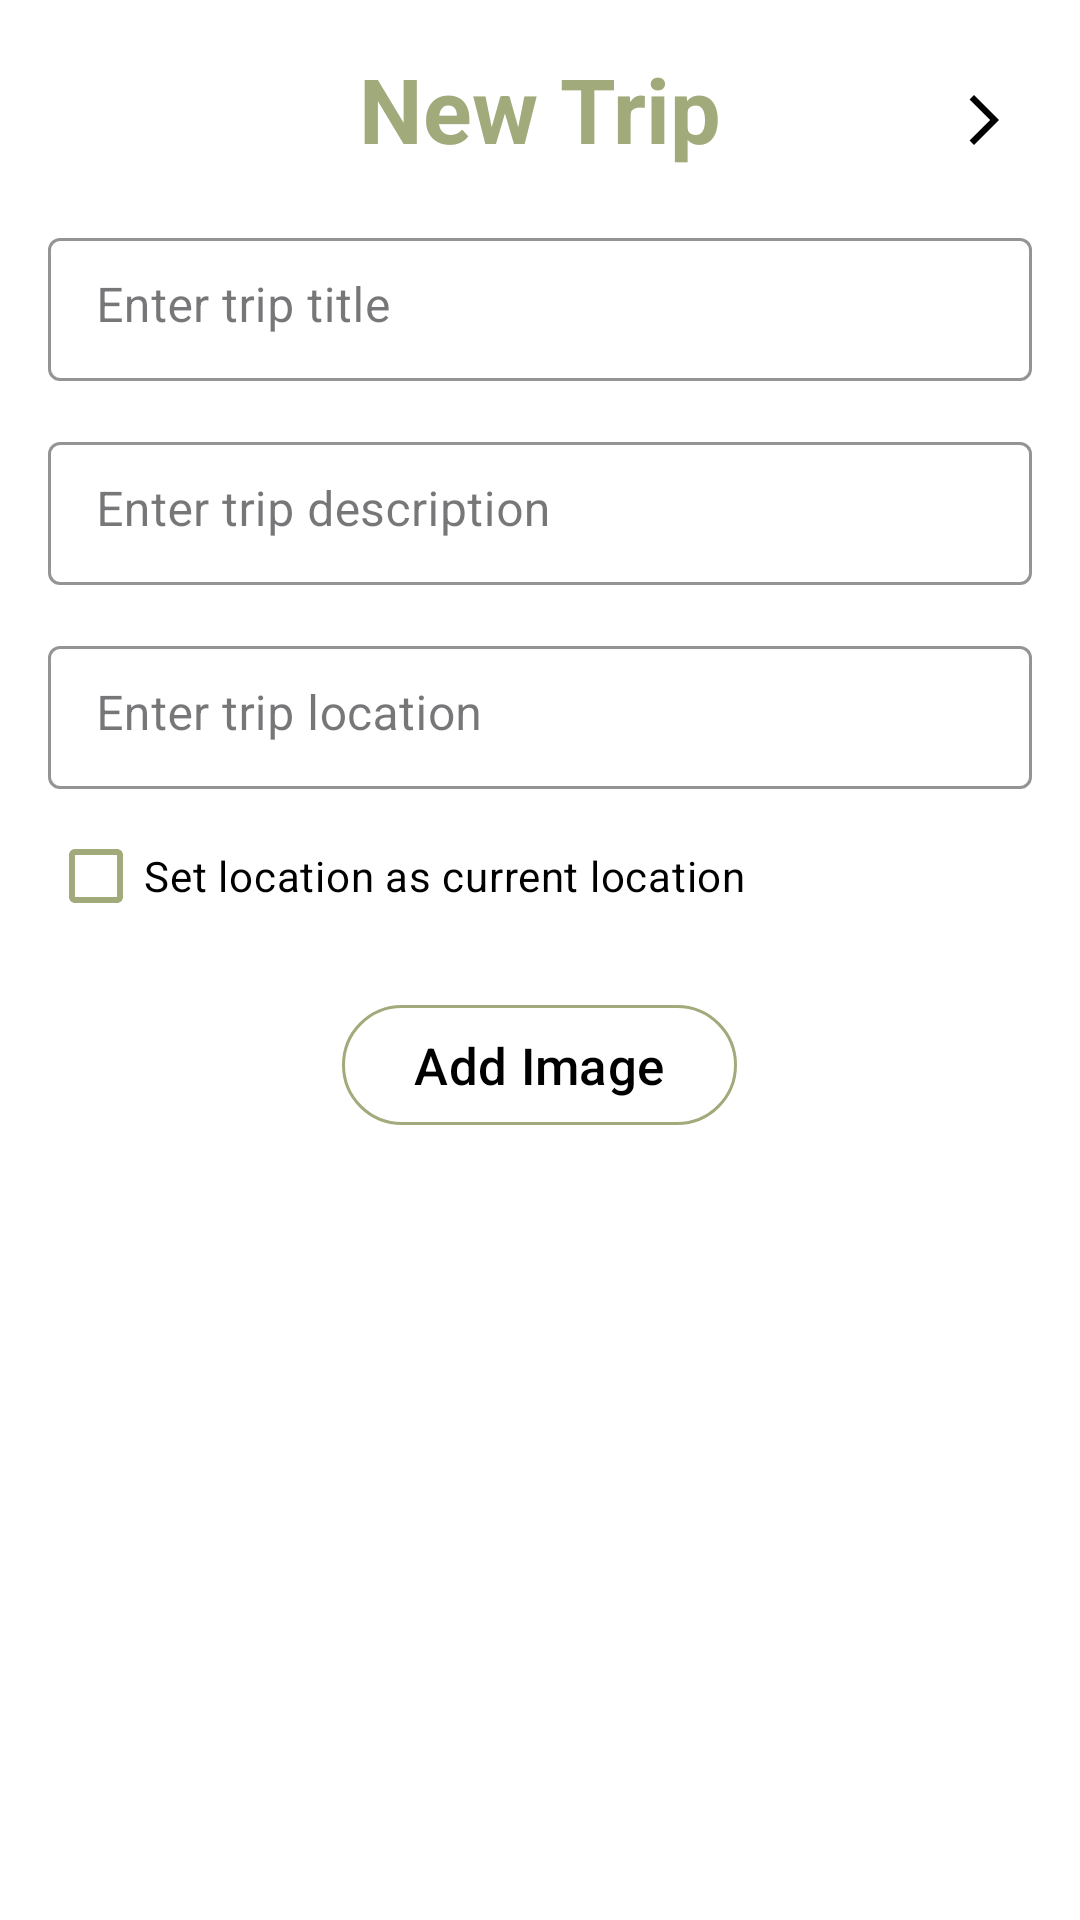

Named icons in this screenshot (1080 × 1920) and their centers, (x=x, y=y):
arrow forward: (x=984, y=120)
